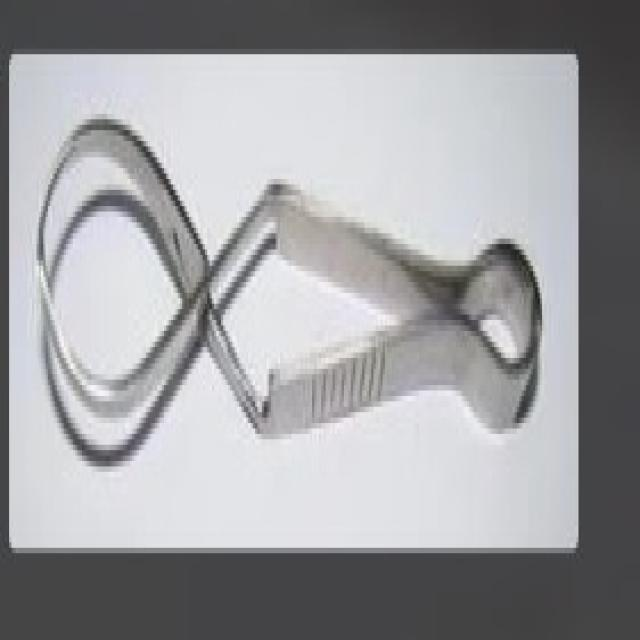Doyen Cross Action Towel Clamp: (28, 106, 543, 455)
